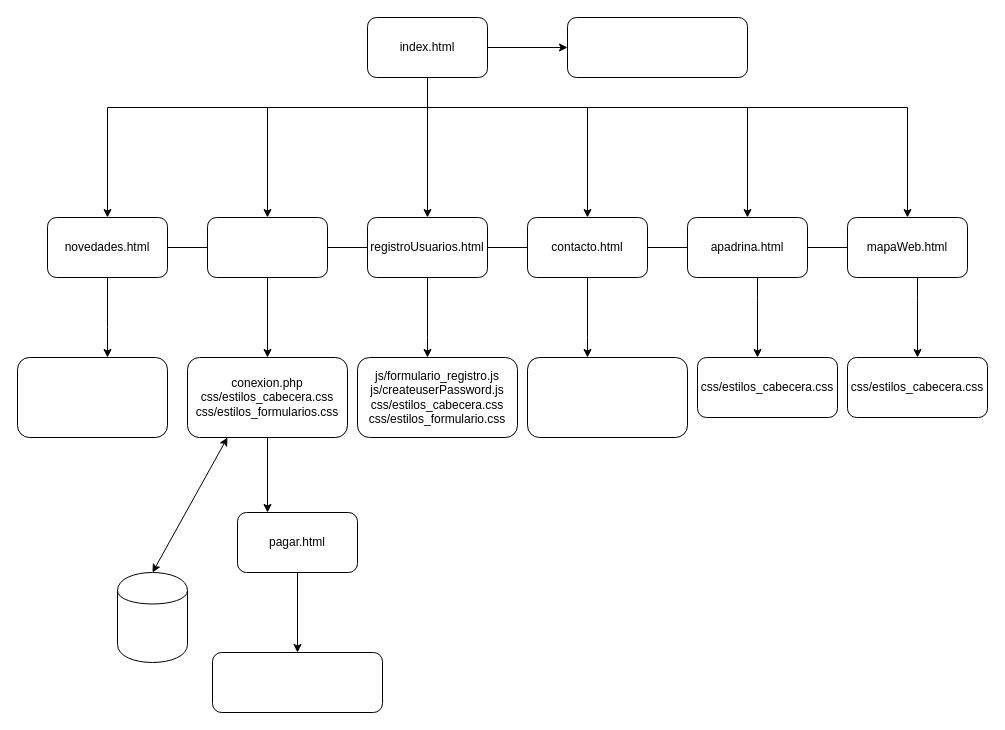
The diagram is 1005 pixels wide and 730 high, and some of its shapes have lost their labels. The shapes that lost their labels are listed below. From the top down, each one's centre as x and y in pixels, then its label:
(657,47): js/cookies.js css/estilos_cabecera.css
(267,247): tienda.php
(92,397): js/novedades.js css/estilos_cabecera.css
(607,397): js/formulario_contacto.js css/estilos_cabecera.css css/estilos_formulario.css
(152,617): Productos
(297,682): js/tarjeta.js css/estilos_cabecera.css css/estilos-tarjeta.css
